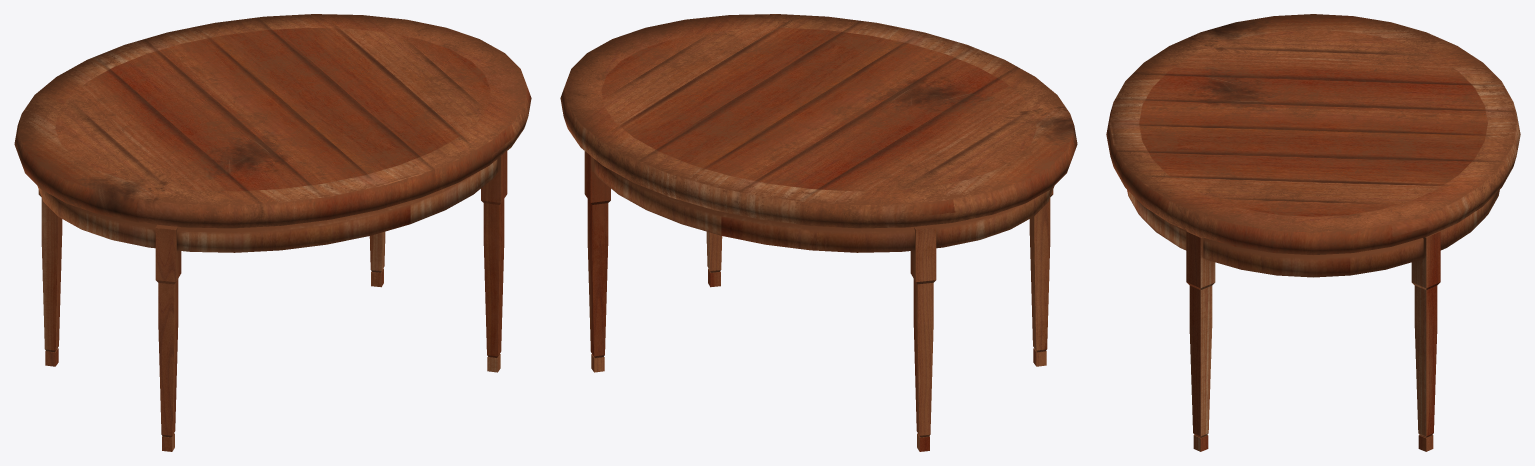
3 views of the same model, side by side, from view 1: azimuth 30°, elevation 25°; view 2: azimuth 150°, elevation 25°; view 3: azimuth 270°, elevation 25° (orthographic). The views are drawn at different scales.
Visible parts, largest first — view 1: Circle; view 2: Circle; view 3: Circle.
Part boxes in pixels (x1,y1,x2,y2): Circle: [14, 14, 531, 451]; Circle: [560, 14, 1077, 451]; Circle: [1106, 14, 1520, 451].
Size of the model in its own units: 4.58 by 2.39 by 3.61.
3 materials, 3 textured.
